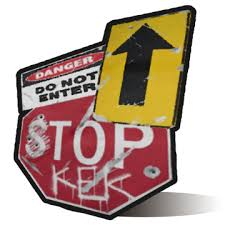stop sign: (13, 90, 177, 221)
